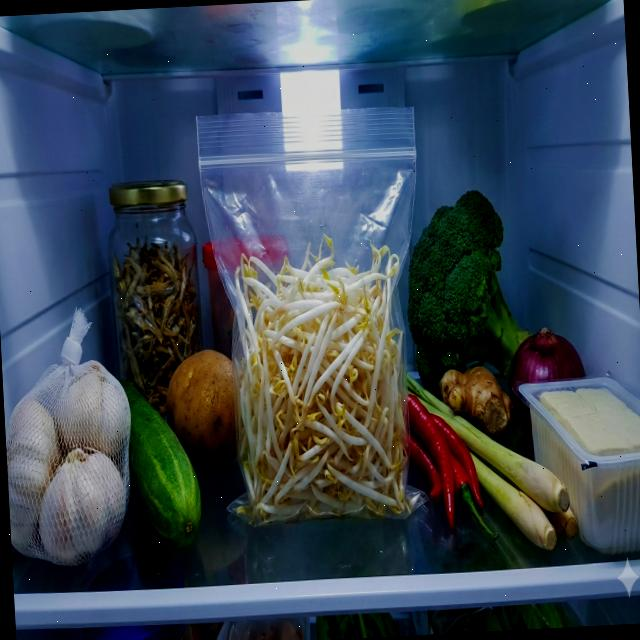anchovies: (115, 239, 206, 406)
bean_sprouts: (222, 228, 422, 528)
brocolli: (402, 186, 536, 392)
chili: (404, 379, 494, 548)
cucumber: (126, 386, 205, 556)
garlic: (1, 357, 140, 570)
ginger: (440, 364, 515, 438)
lemongrass: (406, 363, 580, 560)
onion: (508, 324, 586, 384)
potato: (164, 350, 238, 472)
tofu: (540, 385, 640, 459)
